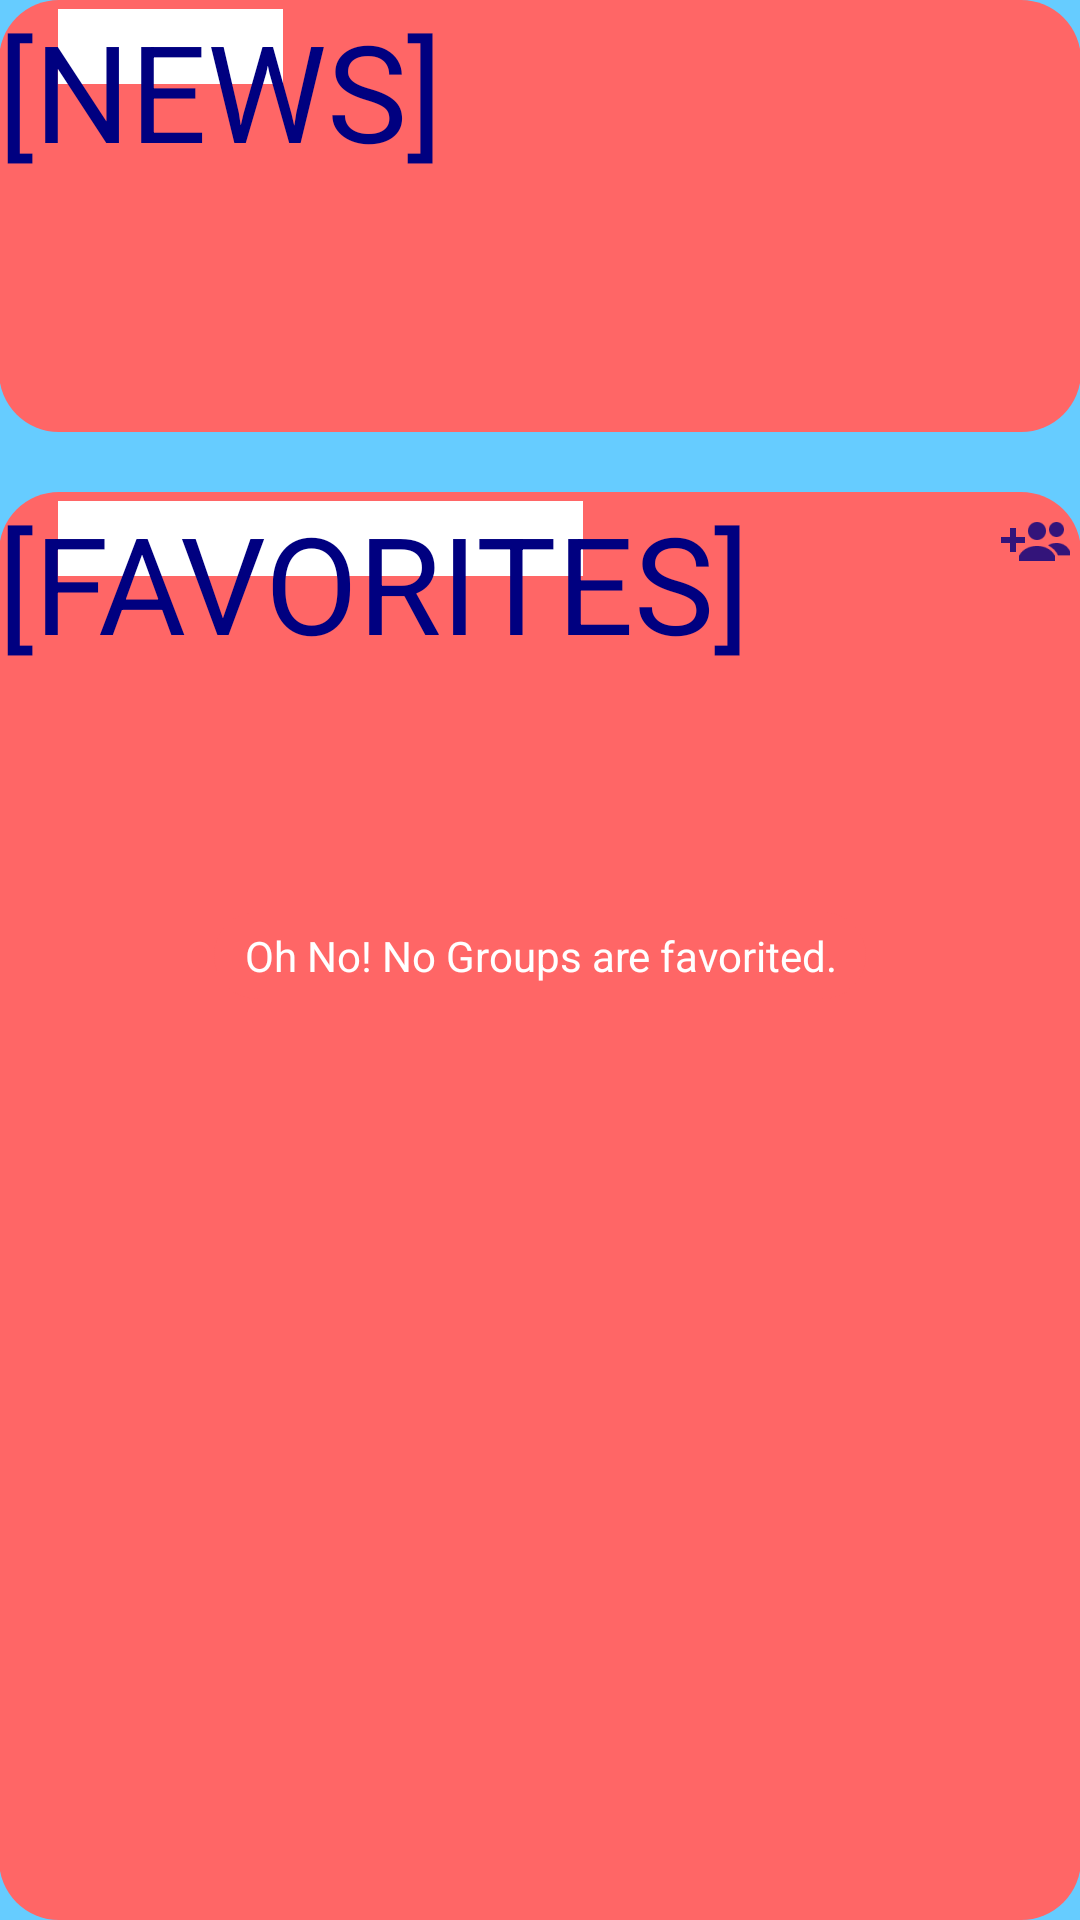

Icon bounding boxes for this 1080w x 1920h phone screenshot, format (x1, y1, x2, y2):
add group: (1001, 522, 1070, 561)
